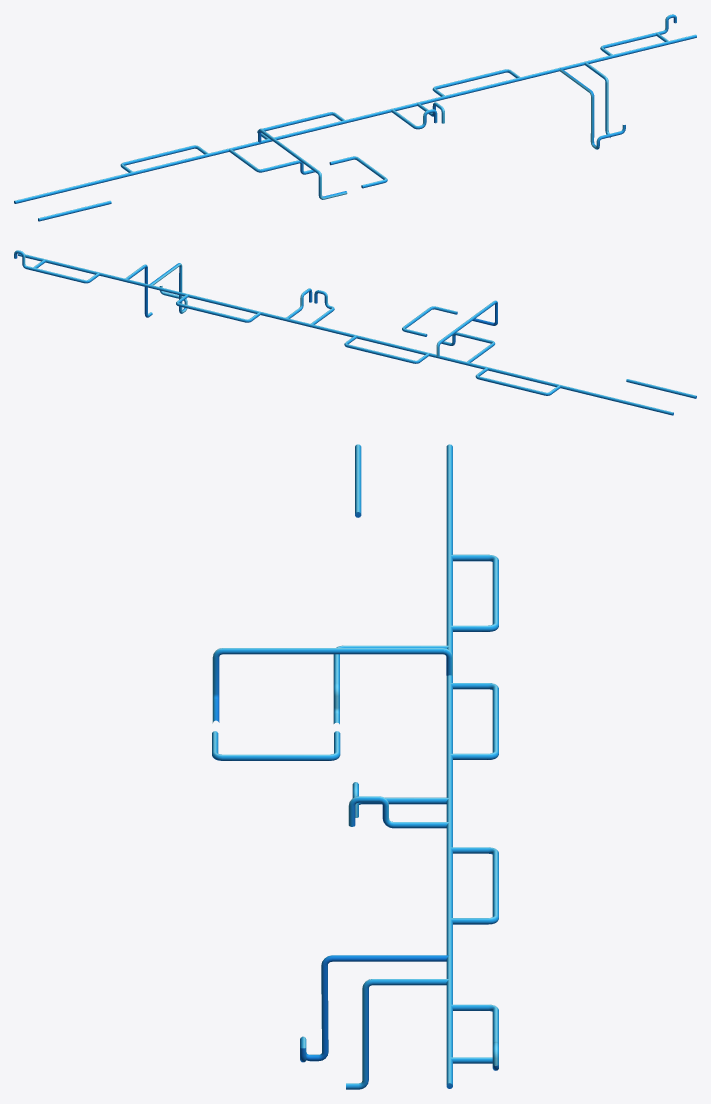
The model's file is LX_Guandao_c.glb.
3 views of the same model, one above another, from view 1: azimuth 30°, elevation 25°; view 2: azimuth 150°, elevation 25°; view 3: azimuth 270°, elevation 25° (orthographic). The views are drawn at different scales.
Bounding box in the file's own units: 13.81 × 1.39 × 2.62.
1 material, 1 textured.
